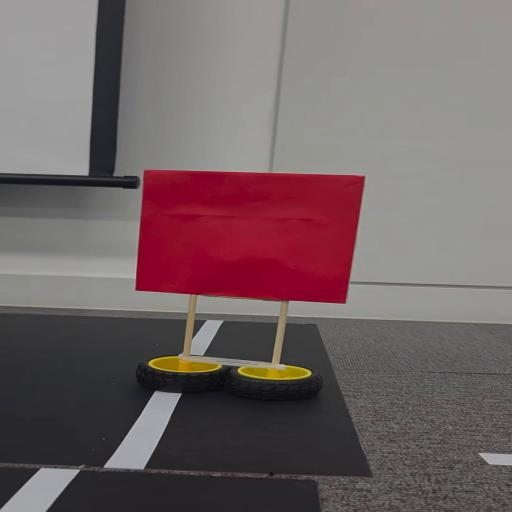Sign_A: (130, 164, 374, 404)
